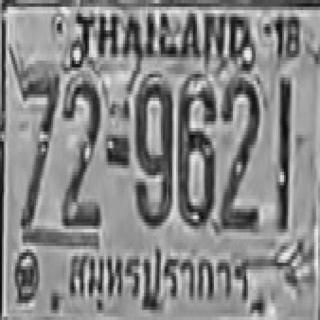N01: (275, 77, 291, 229)
N02: (219, 76, 258, 227), (60, 77, 99, 226)
N06: (176, 77, 214, 226)
N07: (18, 69, 60, 227)
N09: (134, 74, 170, 226)
P57: (64, 236, 255, 309)
